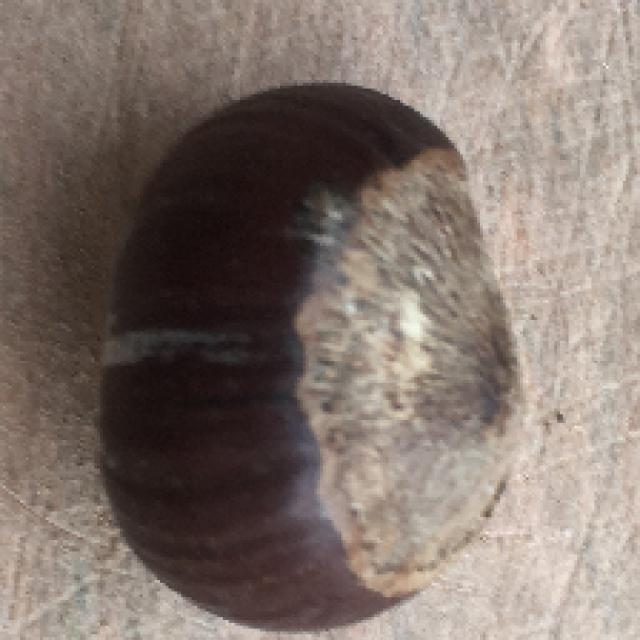damagedHazelnut: (92, 82, 537, 633)
